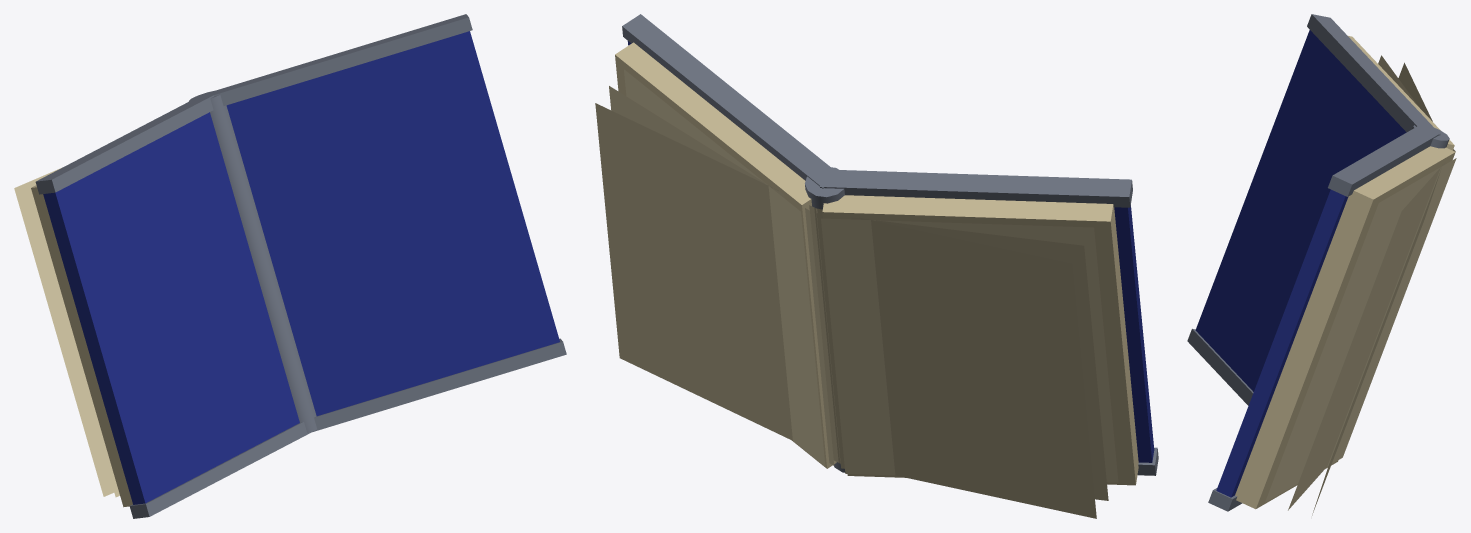
The model's file is back_eqen0.glb.
3 views of the same model, side by side, from view 1: azimuth 30°, elevation 25°; view 2: azimuth 150°, elevation 25°; view 3: azimuth 270°, elevation 25° (orthographic). The views are drawn at different scales.
Bounding box in the file's own units: 2.03 × 1.5 × 0.9664.
